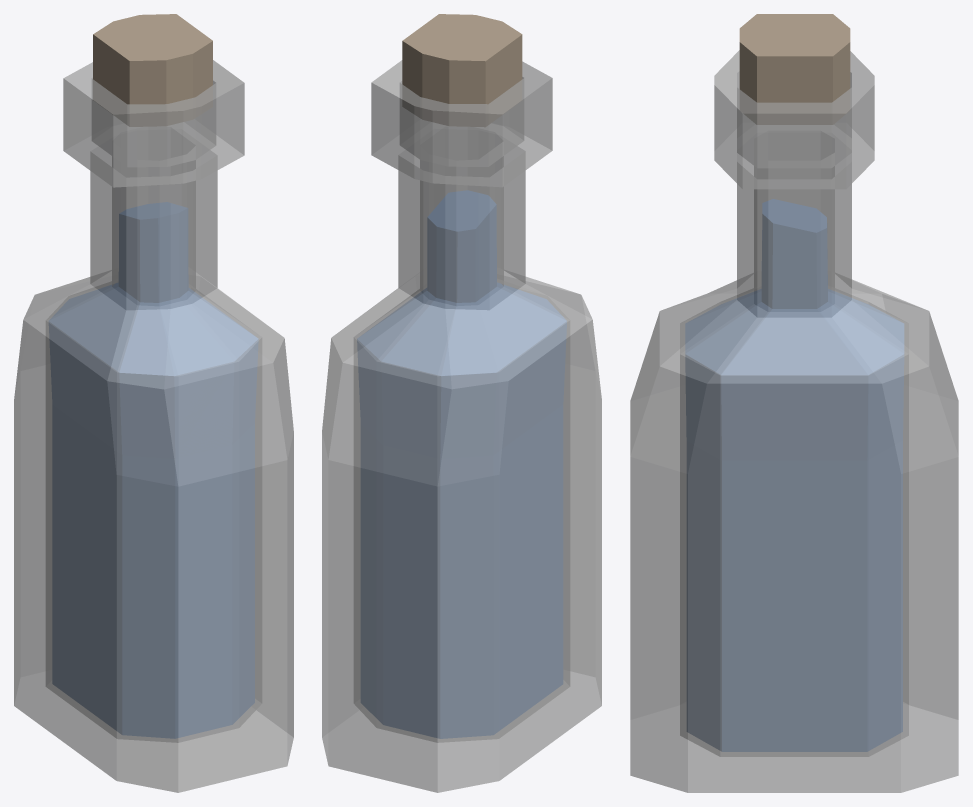
File: jar_ectoplasm.fbx
The picture shows the model from 3 angles, left to right: view 1: azimuth 30°, elevation 25°; view 2: azimuth 150°, elevation 25°; view 3: azimuth 270°, elevation 25°; orthographic projection. The views are drawn at different scales.
Visible parts, largest first — view 1: bottle, cork; view 2: bottle, cork; view 3: bottle, cork.
Boxes of the visible parts, x1,y1,x2,y2 form: bottle: (14, 60, 293, 792); cork: (93, 14, 212, 126); bottle: (322, 60, 601, 792); cork: (402, 14, 522, 126); bottle: (630, 50, 958, 792); cork: (739, 14, 850, 124).
Size of the model in its own units: 0.1187 by 0.4375 by 0.1829.
